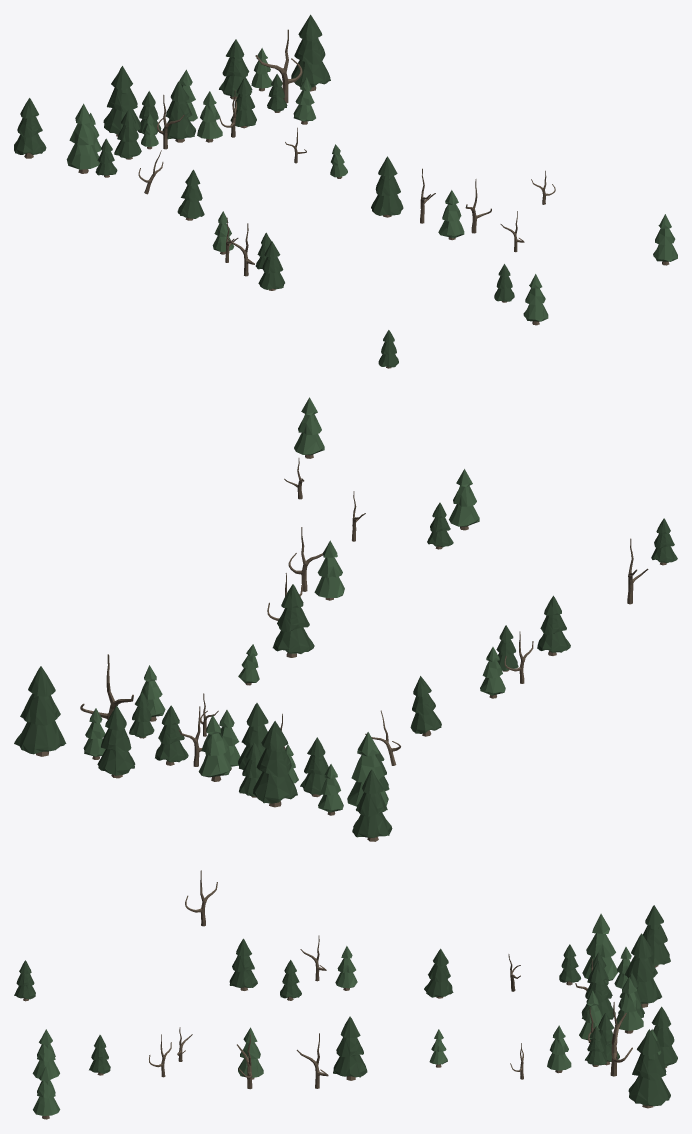
File: MovableTrees_FBX.fbx
3 renders of one model, top to bottom at view 1: azimuth 30°, elevation 25°; view 2: azimuth 150°, elevation 25°; view 3: azimuth 270°, elevation 25°, orthographic. The views are drawn at different scales.
Parts seen in each view (by area): view 1: Tree_Pine_V1_014, Tree_Pine_V2_004, Tree_Pine_V1_010, Tree_Pine_V1_001, Tree_Pine_V1_013, Tree_Pine_V1_005, Tree_Pine_V1_008, Tree_Pine_V1_004, Tree_Pine_V1_006, Tree_Pine_V1_012, Tree_Pine_V2_011, Tree_Pine_V2_001 (+5 smaller); view 2: Tree_Pine_V1_014, Tree_Pine_V1_010, Tree_Pine_V1_001, Tree_Pine_V1_013, Tree_Pine_V1_008, Tree_Pine_V2_004, Tree_Pine_V2_009, Tree_Pine_V1_012, Tree_Pine_V1_009, Tree_Pine_V1_006, Tree_Pine_V2_006, Tree_Pine_V2_012 (+12 smaller); view 3: Tree_Pine_V1_014, Tree_Pine_V1_010, Tree_Pine_V1_001, Tree_Pine_V2_004, Tree_Pine_V1_013, Tree_Pine_V2_009, Tree_Pine_V1_012, Tree_Pine_V1_006, Tree_Pine_V1_005, Tree_Pine_V1_008, Tree_Pine_V2_006, Tree_Pine_V2_001 (+12 smaller).
Boxes of the visible parts, x1=… form: Tree_Pine_V1_014: x1=291, y1=14, x2=330, y2=91; Tree_Pine_V2_004: x1=66, y1=103, x2=99, y2=173; Tree_Pine_V1_010: x1=103, y1=66, x2=140, y2=136; Tree_Pine_V1_001: x1=371, y1=156, x2=403, y2=217; Tree_Pine_V1_013: x1=14, y1=98, x2=46, y2=158; Tree_Pine_V1_005: x1=162, y1=81, x2=195, y2=142; Tree_Pine_V1_008: x1=219, y1=39, x2=252, y2=99; Tree_Pine_V1_004: x1=114, y1=110, x2=141, y2=159; Tree_Pine_V1_006: x1=177, y1=169, x2=204, y2=220; Tree_Pine_V1_012: x1=258, y1=241, x2=284, y2=290; Tree_Pine_V2_011: x1=197, y1=91, x2=222, y2=142; Tree_Pine_V2_001: x1=523, y1=274, x2=548, y2=325; Tree_Pine_V1_014: x1=14, y1=666, x2=66, y2=756; Tree_Pine_V1_010: x1=253, y1=721, x2=297, y2=807; Tree_Pine_V1_001: x1=272, y1=584, x2=314, y2=657; Tree_Pine_V1_013: x1=352, y1=769, x2=392, y2=841; Tree_Pine_V1_008: x1=97, y1=705, x2=135, y2=778; Tree_Pine_V2_004: x1=347, y1=732, x2=388, y2=806; Tree_Pine_V2_009: x1=198, y1=715, x2=231, y2=781; Tree_Pine_V1_012: x1=537, y1=595, x2=570, y2=655; Tree_Pine_V1_009: x1=155, y1=705, x2=188, y2=765; Tree_Pine_V1_006: x1=410, y1=676, x2=441, y2=736; Tree_Pine_V2_006: x1=294, y1=397, x2=324, y2=458; Tree_Pine_V2_012: x1=314, y1=540, x2=344, y2=600; Tree_Pine_V1_014: x1=628, y1=1029, x2=670, y2=1108; Tree_Pine_V1_010: x1=619, y1=933, x2=661, y2=1007; Tree_Pine_V1_001: x1=333, y1=1016, x2=367, y2=1080; Tree_Pine_V2_004: x1=582, y1=913, x2=617, y2=980; Tree_Pine_V1_013: x1=643, y1=905, x2=670, y2=967; Tree_Pine_V2_009: x1=615, y1=977, x2=643, y2=1033; Tree_Pine_V1_012: x1=229, y1=938, x2=257, y2=990; Tree_Pine_V1_006: x1=424, y1=948, x2=453, y2=998; Tree_Pine_V1_005: x1=581, y1=961, x2=615, y2=1020; Tree_Pine_V1_008: x1=651, y1=1006, x2=677, y2=1068; Tree_Pine_V2_006: x1=33, y1=1066, x2=60, y2=1119; Tree_Pine_V2_001: x1=32, y1=1029, x2=59, y2=1078.
Bounding box in the file's own units: 2210 × 580 × 3299.
